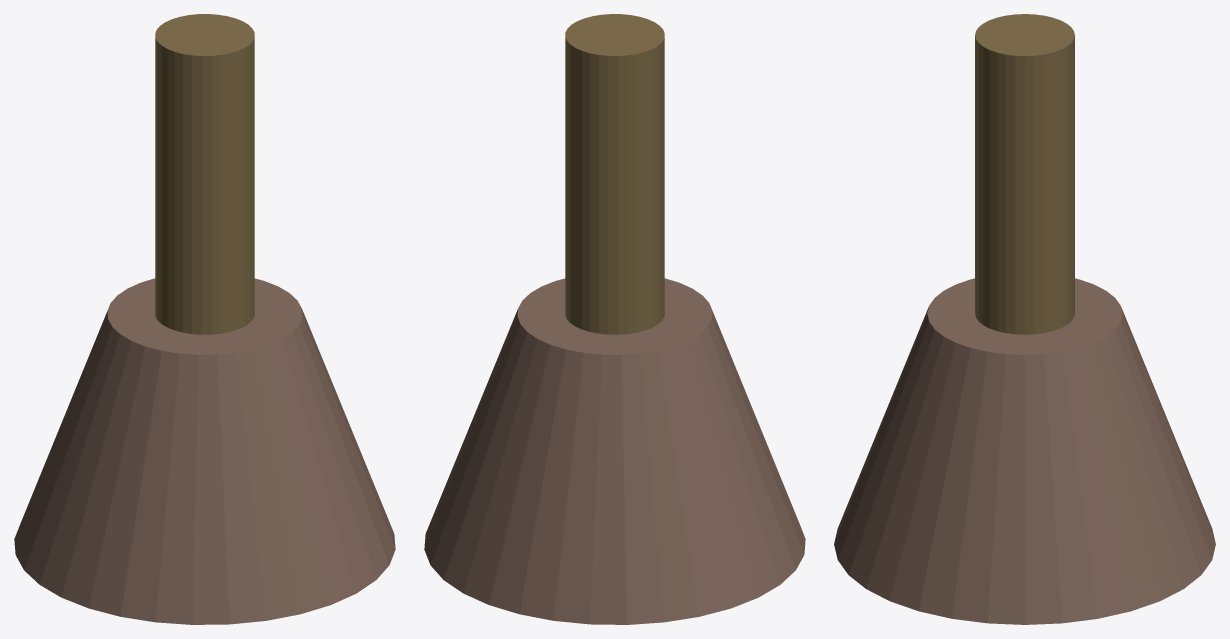
The model's file is Light_02.fbx.
3 renders of one model, left to right at view 1: azimuth 30°, elevation 25°; view 2: azimuth 150°, elevation 25°; view 3: azimuth 270°, elevation 25°, orthographic.
Visible parts, largest first — view 1: Cylinder; view 2: Cylinder; view 3: Cylinder.
Boxes of the visible parts, box(x1,y1,x2,y2) form: Cylinder: box(14, 14, 395, 624); Cylinder: box(424, 14, 805, 624); Cylinder: box(834, 14, 1215, 624).
Size of the model in its own units: 291 by 429 by 291.
